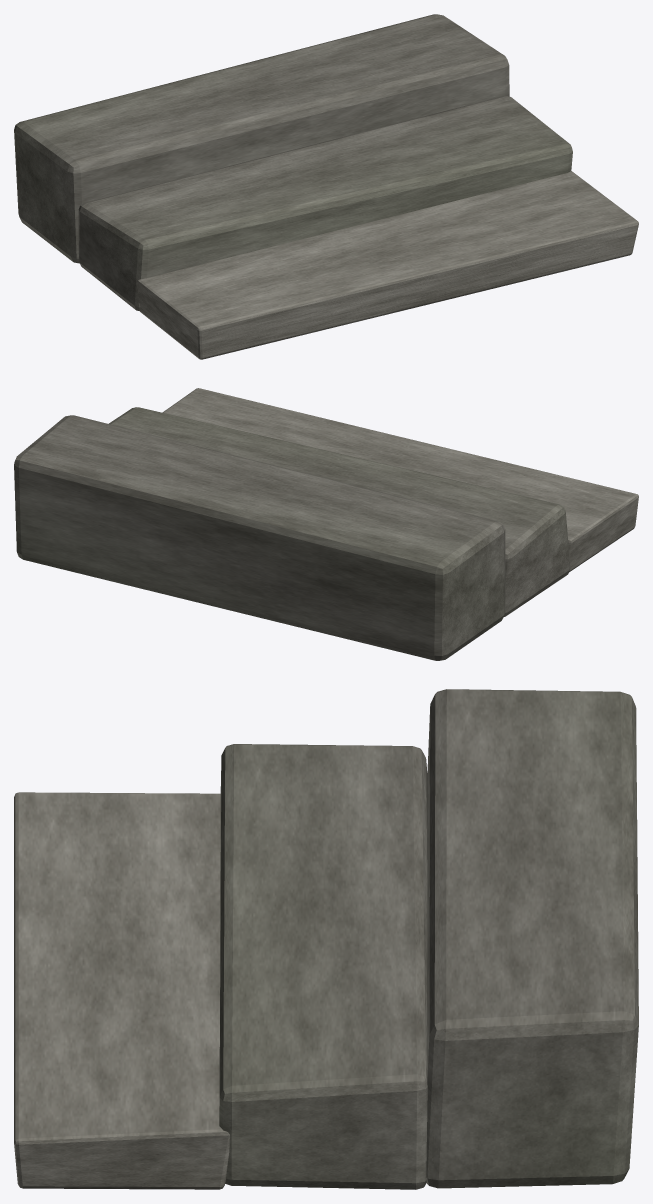
Rendered from 05_Stair_Three_Treads.glb.
3 views of the same model, one above another, from view 1: azimuth 30°, elevation 25°; view 2: azimuth 150°, elevation 25°; view 3: azimuth 270°, elevation 25° (orthographic). The views are drawn at different scales.
Parts seen in each view (by area): view 1: 05_Stair_Three_Treads; view 2: 05_Stair_Three_Treads; view 3: 05_Stair_Three_Treads.
Part boxes in pixels (bbox=[...]): 05_Stair_Three_Treads: bbox=[14, 14, 638, 359]; 05_Stair_Three_Treads: bbox=[14, 388, 638, 660]; 05_Stair_Three_Treads: bbox=[14, 689, 638, 1189].
Bounding box in the file's own units: 2.44 × 0.5612 × 1.84.
1 material, 1 textured.
